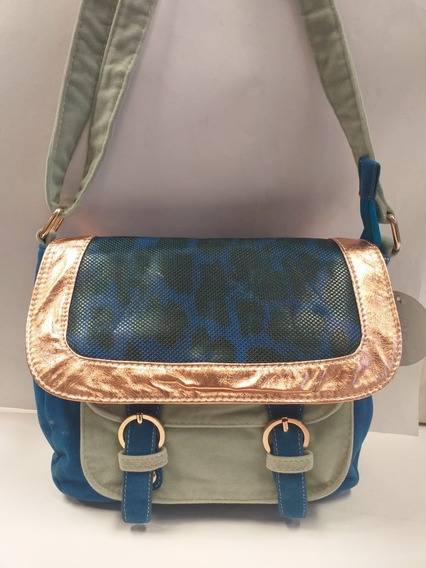cartera: (26, 2, 400, 518)
